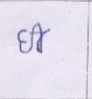i_matra: (33, 23, 44, 53)
